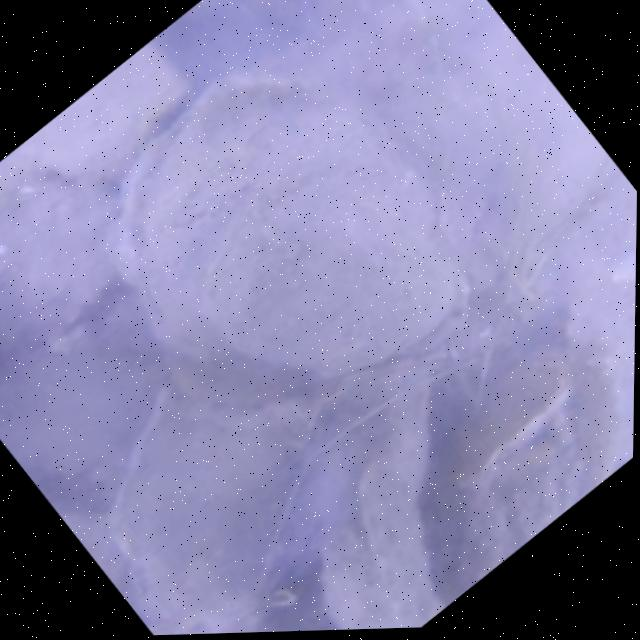Oyster-Closed: (120, 61, 423, 357), (208, 187, 477, 377)
Oyster-Indeterminate: (112, 409, 300, 634), (309, 355, 453, 630), (0, 155, 117, 356), (446, 343, 576, 490), (40, 51, 187, 179), (564, 334, 634, 497)
